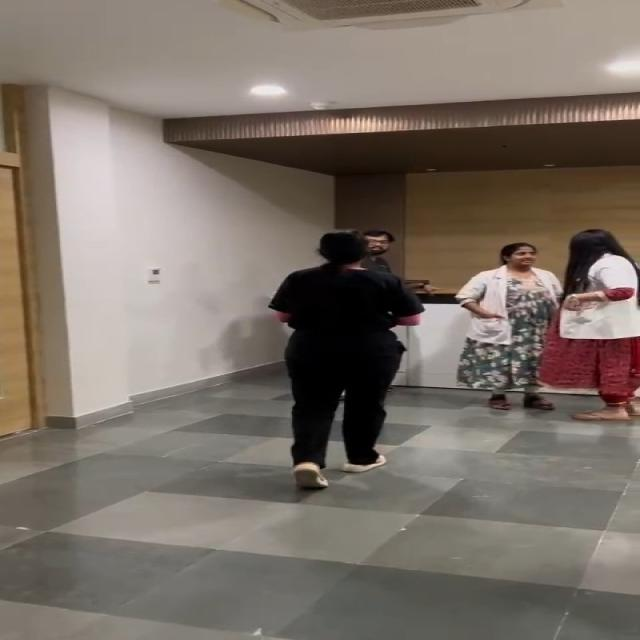floor: (0, 471, 640, 640), (405, 402, 640, 468), (17, 413, 298, 464)
moving_object: (283, 224, 407, 494), (539, 207, 640, 412), (470, 242, 539, 392)
wall: (33, 95, 281, 374), (257, 99, 640, 201)
